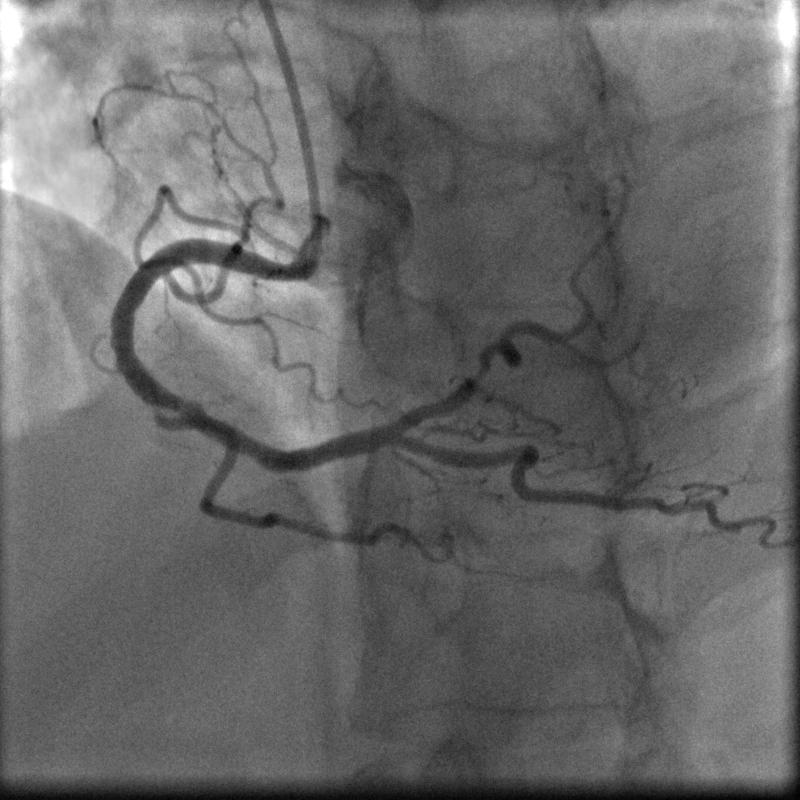Stenosis: (460, 357, 493, 390)
